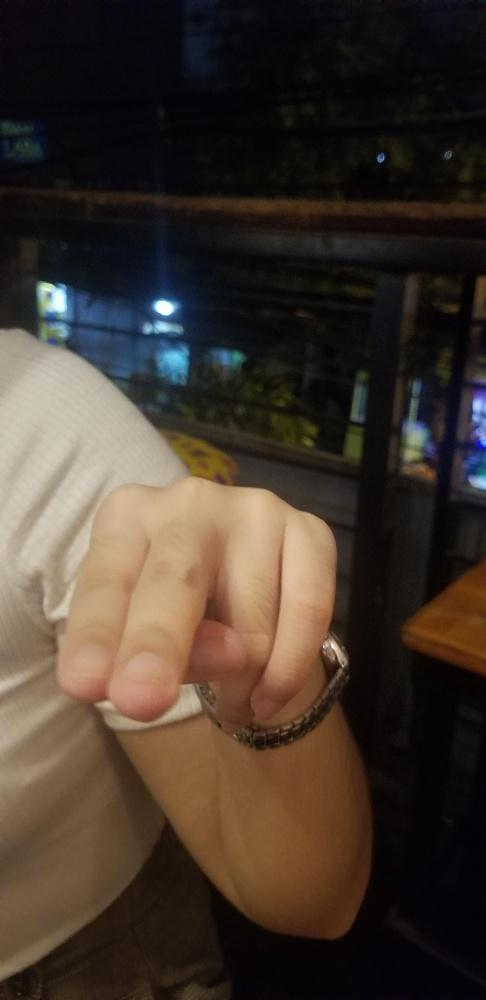n: (57, 472, 339, 723)
